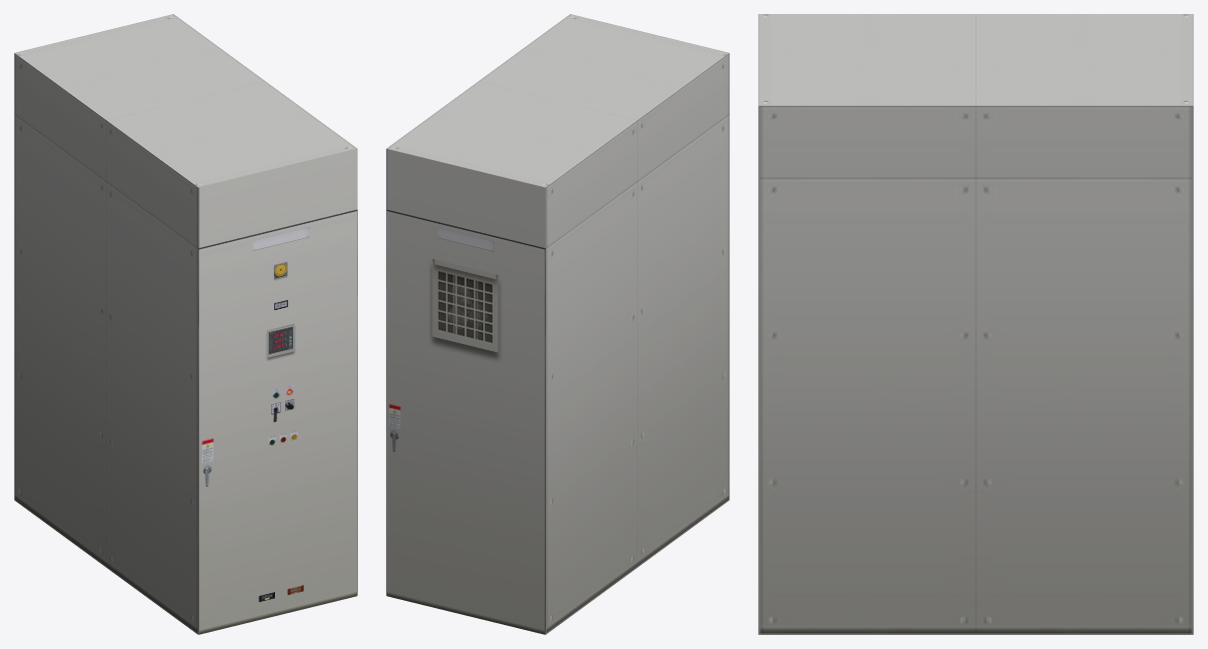
3 views of the same model, side by side, from view 1: azimuth 30°, elevation 25°; view 2: azimuth 150°, elevation 25°; view 3: azimuth 270°, elevation 25° (orthographic). The views are drawn at different scales.
Visible parts, largest first — view 1: LV-J2; view 2: LV-J2; view 3: LV-J2.
Part boxes in pixels (x1,y1,x2,y2): LV-J2: (14,14,357,634); LV-J2: (386,14,729,634); LV-J2: (758,14,1193,634).
Size of the model in its own units: 1.1 by 2.95 by 2.2.
1 material, 1 textured.
